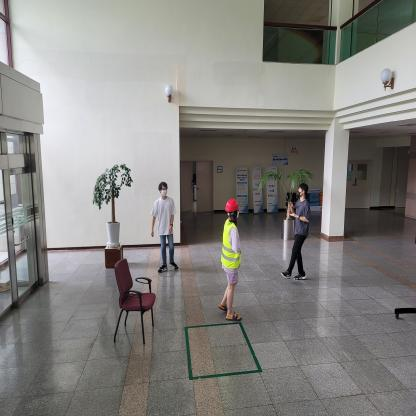Standing: (220, 197, 241, 321), (152, 181, 180, 271), (286, 182, 310, 284)
safety_equipment: (222, 218, 240, 268), (224, 198, 238, 212)
